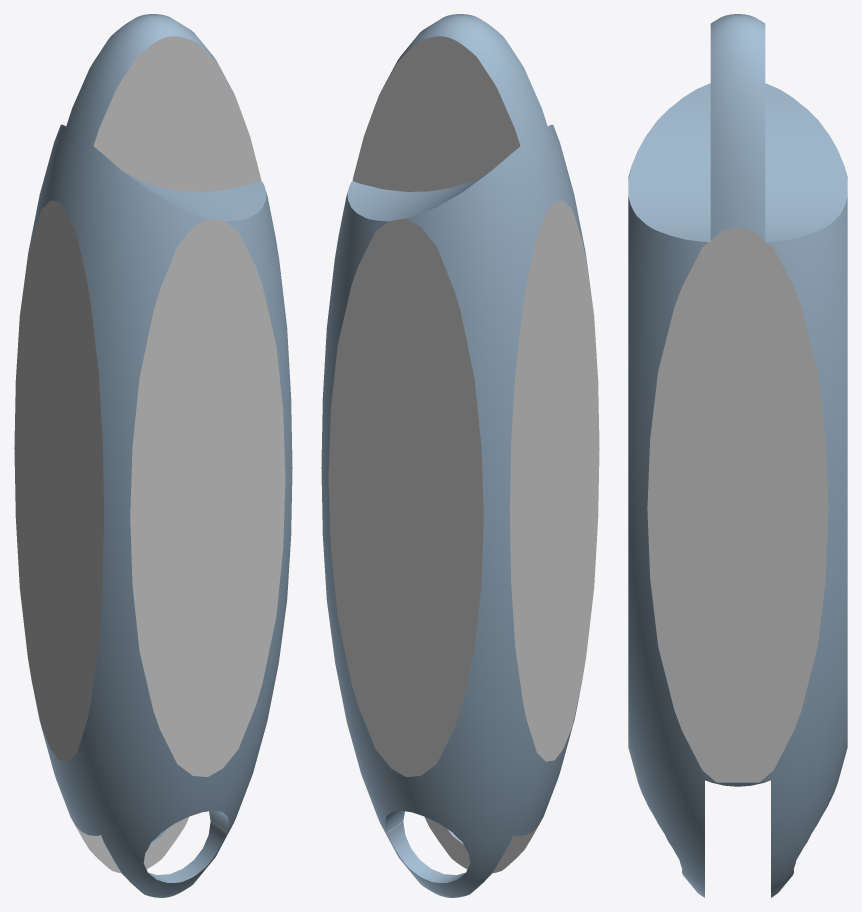
The model's file is phalange11x3.glb.
The picture shows the model from 3 angles, left to right: view 1: azimuth 30°, elevation 25°; view 2: azimuth 150°, elevation 25°; view 3: azimuth 270°, elevation 25°; orthographic projection.
Bounding box in the file's own units: 0.3 × 1.32 × 0.3.
